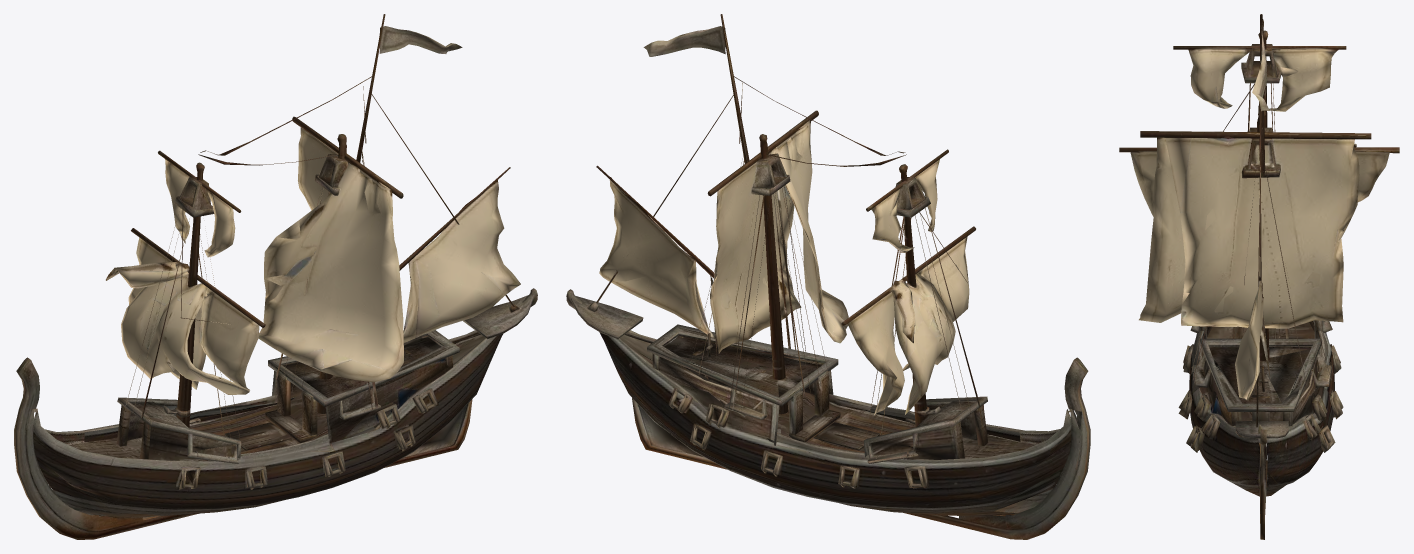
Rendered from shipwreck.glb.
3 views of the same model, side by side, from view 1: azimuth 30°, elevation 25°; view 2: azimuth 150°, elevation 25°; view 3: azimuth 270°, elevation 25° (orthographic). The views are drawn at different scales.
Bounding box in the file's own units: 0.9575 × 0.7954 × 0.4156.
Materials: 1 (1 with a texture image).
